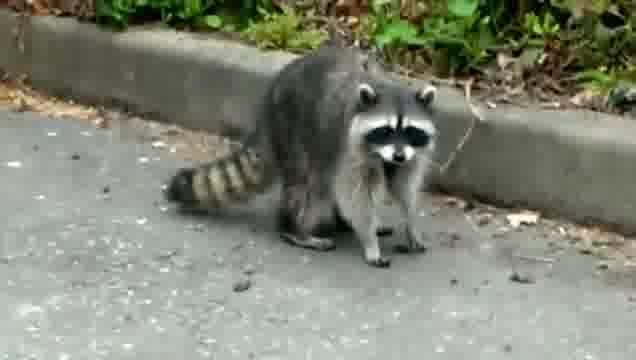raccoon: (165, 43, 440, 270)
